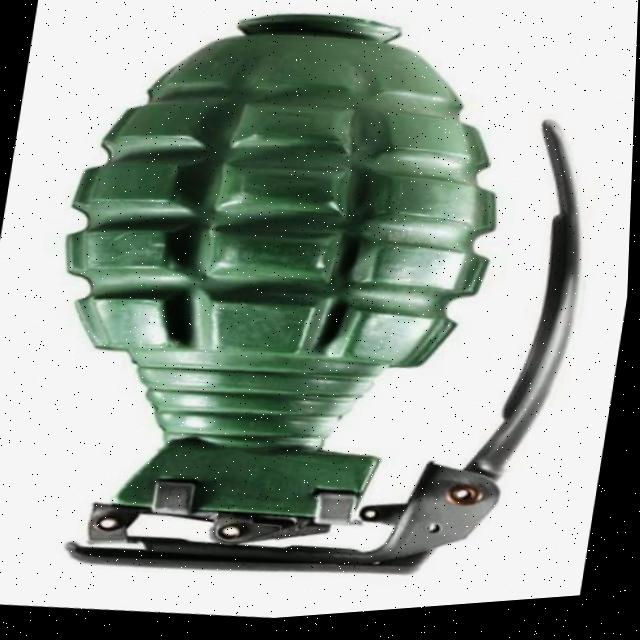grenade: (5, 0, 626, 633)
